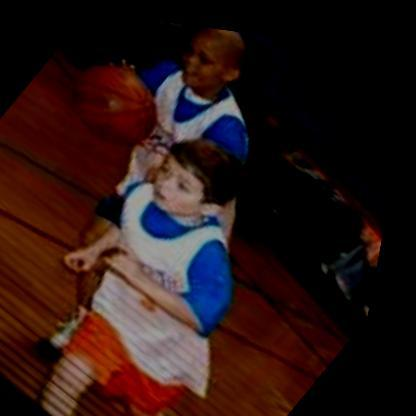basketball: (41, 33, 192, 173)
